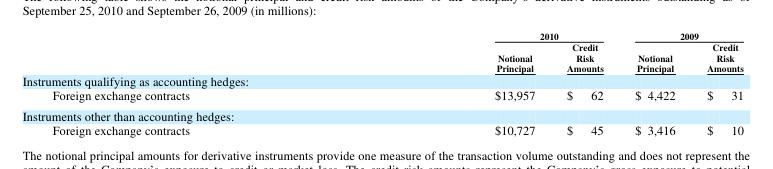table: (21, 29, 742, 137)
table column: (21, 29, 341, 137), (341, 29, 550, 137), (618, 29, 690, 137), (550, 29, 618, 137), (690, 29, 742, 137)
table column header: (21, 29, 742, 73)
table projected row header: (21, 104, 742, 122), (21, 73, 742, 87)
table row: (21, 41, 742, 73), (21, 104, 742, 122), (21, 87, 742, 104), (21, 122, 742, 137), (21, 73, 742, 87), (21, 29, 742, 41)
table spanning cell: (341, 29, 618, 41), (618, 29, 742, 41)
